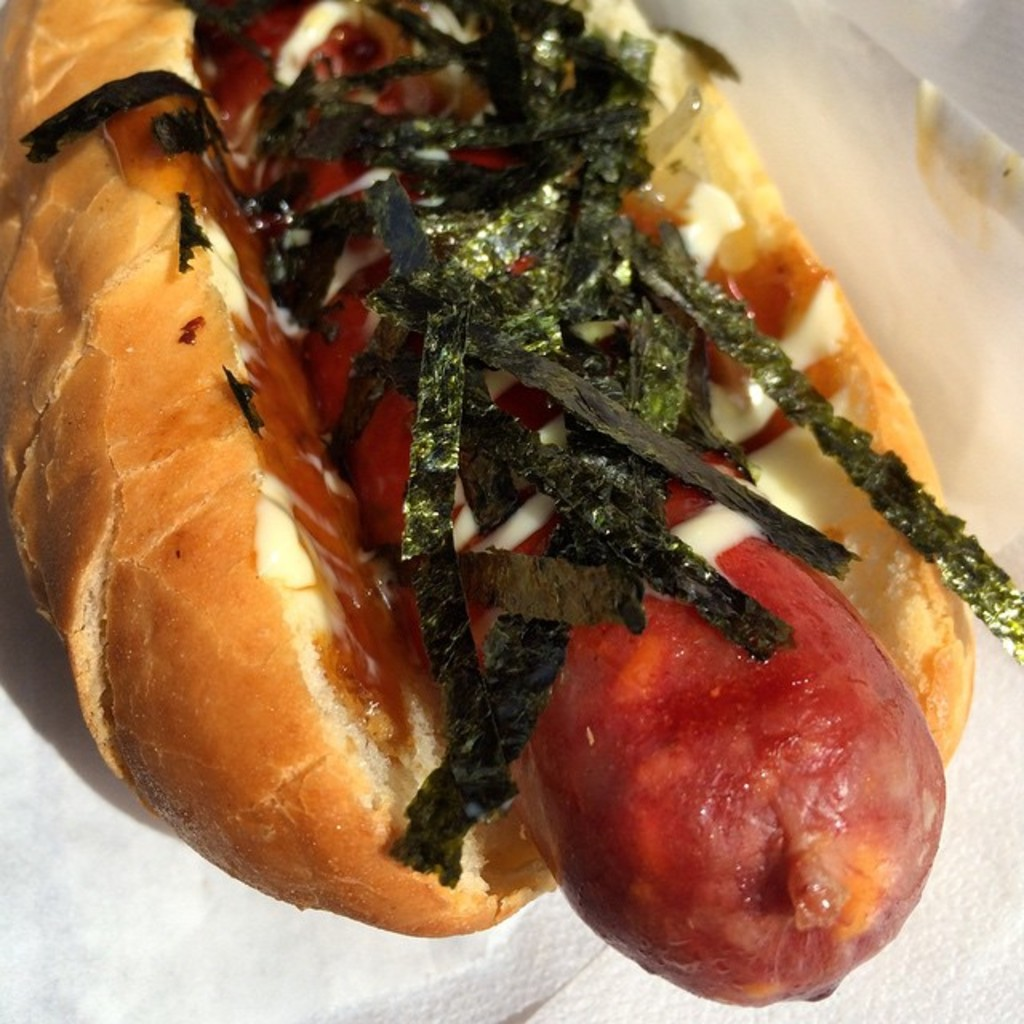hot_dog: (0, 0, 1022, 1022)
